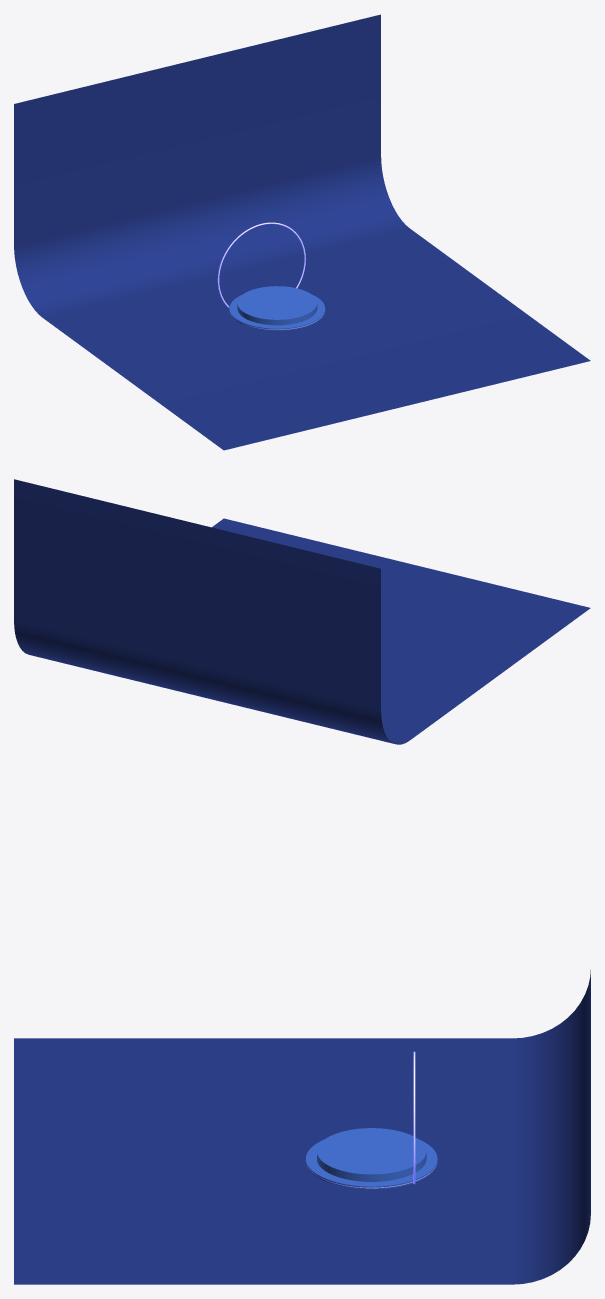
Rendered from podium_art.glb.
3 views of the same model, one above another, from view 1: azimuth 30°, elevation 25°; view 2: azimuth 150°, elevation 25°; view 3: azimuth 270°, elevation 25° (orthographic). The views are drawn at different scales.
Parts seen in each view (by area): view 1: Plane.001, Cylinder.001, Cylinder.002; view 2: Plane.001; view 3: Plane.001, Cylinder.001, Cylinder.002.
Boxes of the visible parts, x1=… form: Plane.001: x1=14, y1=14, x2=590, y2=450; Cylinder.001: x1=237, y1=286, x2=317, y2=325; Cylinder.002: x1=229, y1=294, x2=325, y2=330; Plane.001: x1=14, y1=479, x2=590, y2=744; Plane.001: x1=14, y1=970, x2=590, y2=1284; Cylinder.001: x1=317, y1=1128, x2=426, y2=1181; Cylinder.002: x1=306, y1=1139, x2=437, y2=1189.
Bounding box in the file's own units: 12.74 × 6.95 × 12.61.
